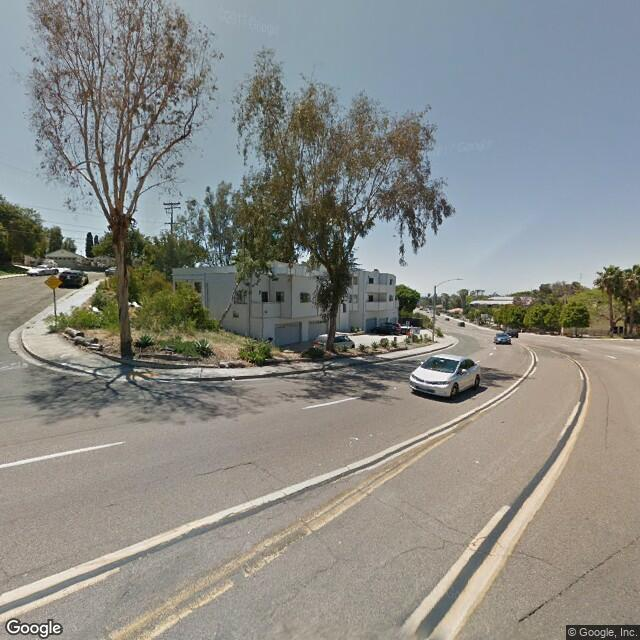litter: (323, 363, 330, 369), (229, 377, 235, 381)
